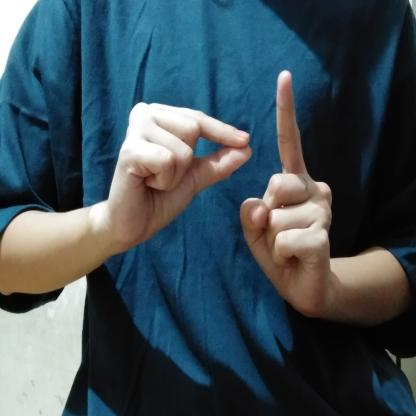son: (98, 64, 353, 326)
